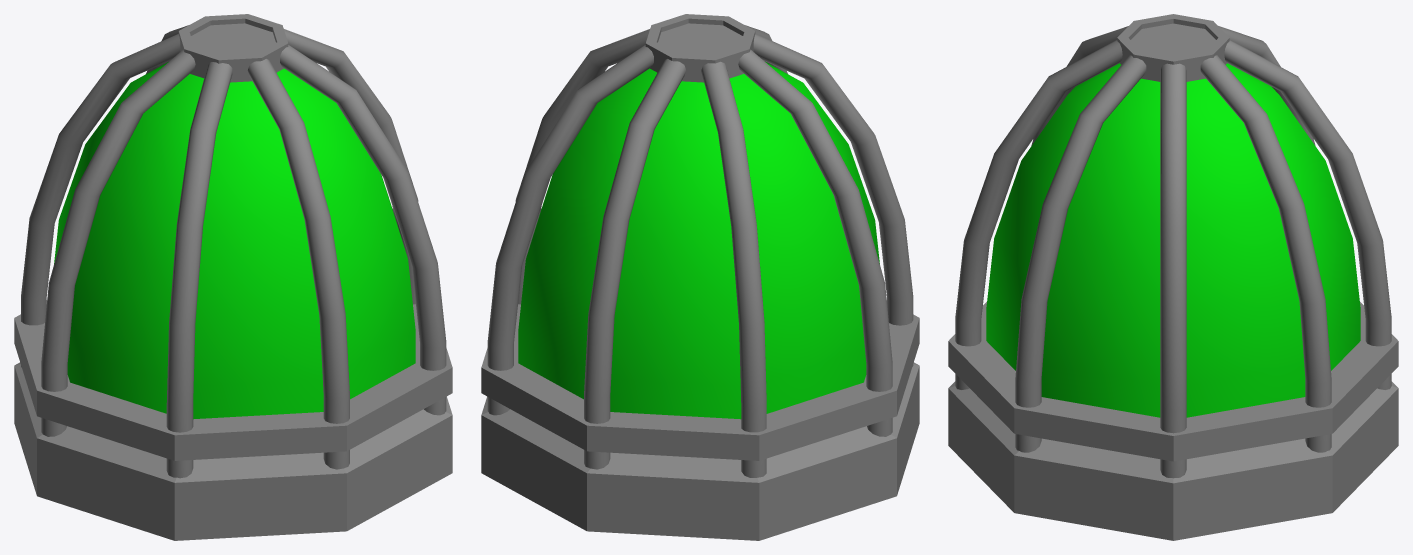
The model's file is SM_LampeSignal.fbx.
3 views of the same model, side by side, from view 1: azimuth 30°, elevation 25°; view 2: azimuth 150°, elevation 25°; view 3: azimuth 270°, elevation 25° (orthographic).
Visible parts, largest first — view 1: Cylinder.001; view 2: Cylinder.001; view 3: Cylinder.001.
Boxes of the visible parts, x1,y1,x2,y2 form: Cylinder.001: (14, 14, 452, 540); Cylinder.001: (481, 14, 919, 540); Cylinder.001: (948, 14, 1398, 540).
Bounding box in the file's own units: 25 × 25 × 25.
